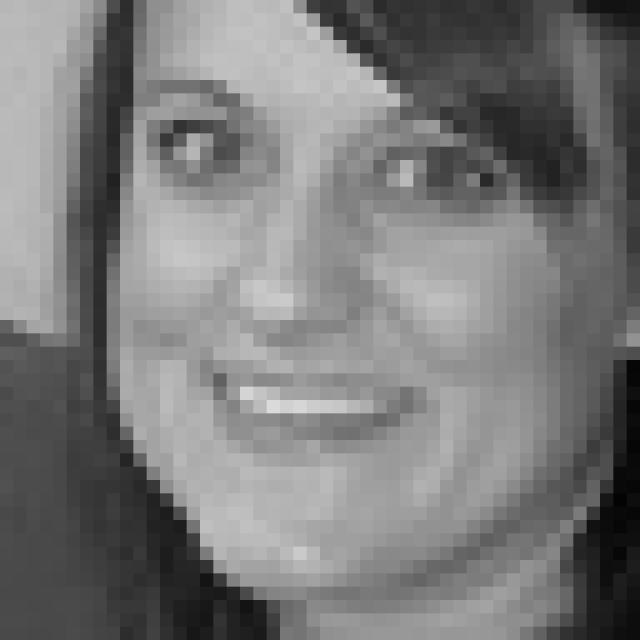happy: (140, 72, 532, 479)
